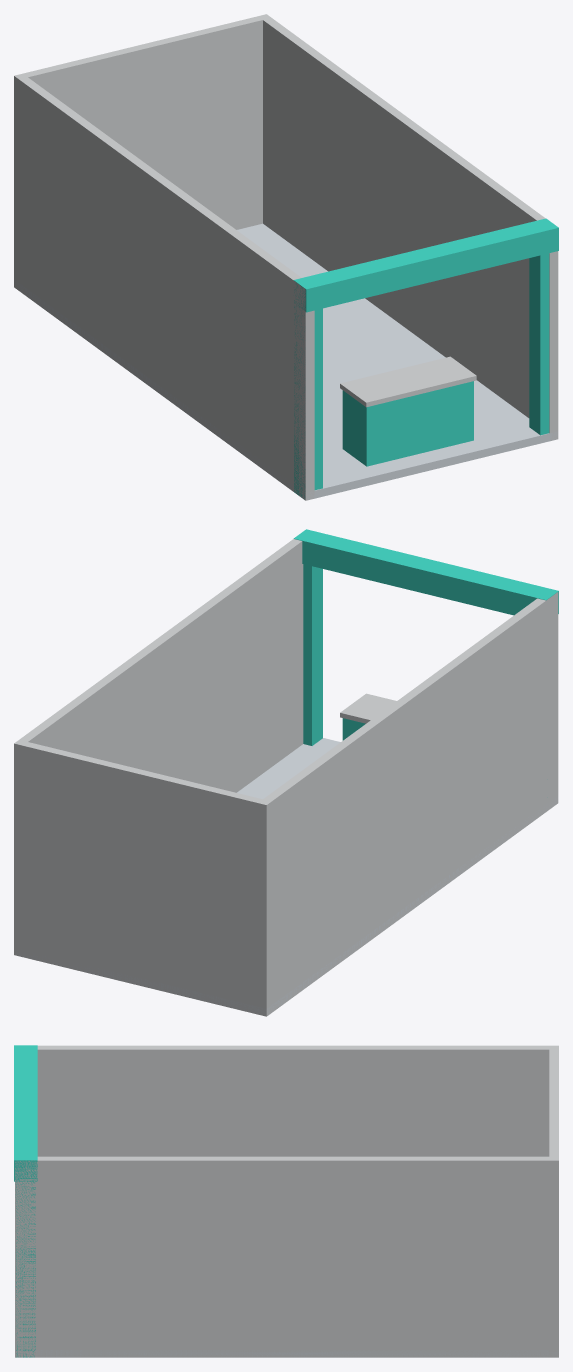
3 renders of one model, top to bottom at view 1: azimuth 30°, elevation 25°; view 2: azimuth 150°, elevation 25°; view 3: azimuth 270°, elevation 25°, orthographic. The views are drawn at different scales.
Parts seen in each view (by area): view 1: Exhibition Booth Concept; view 2: Exhibition Booth Concept; view 3: Exhibition Booth Concept.
Part boxes in pixels (x1,y1,x2,y2): Exhibition Booth Concept: [14, 14, 558, 500]; Exhibition Booth Concept: [14, 529, 558, 1016]; Exhibition Booth Concept: [14, 1045, 558, 1357].
Bounding box in the file's own units: 4 × 3.2 × 8.01.
